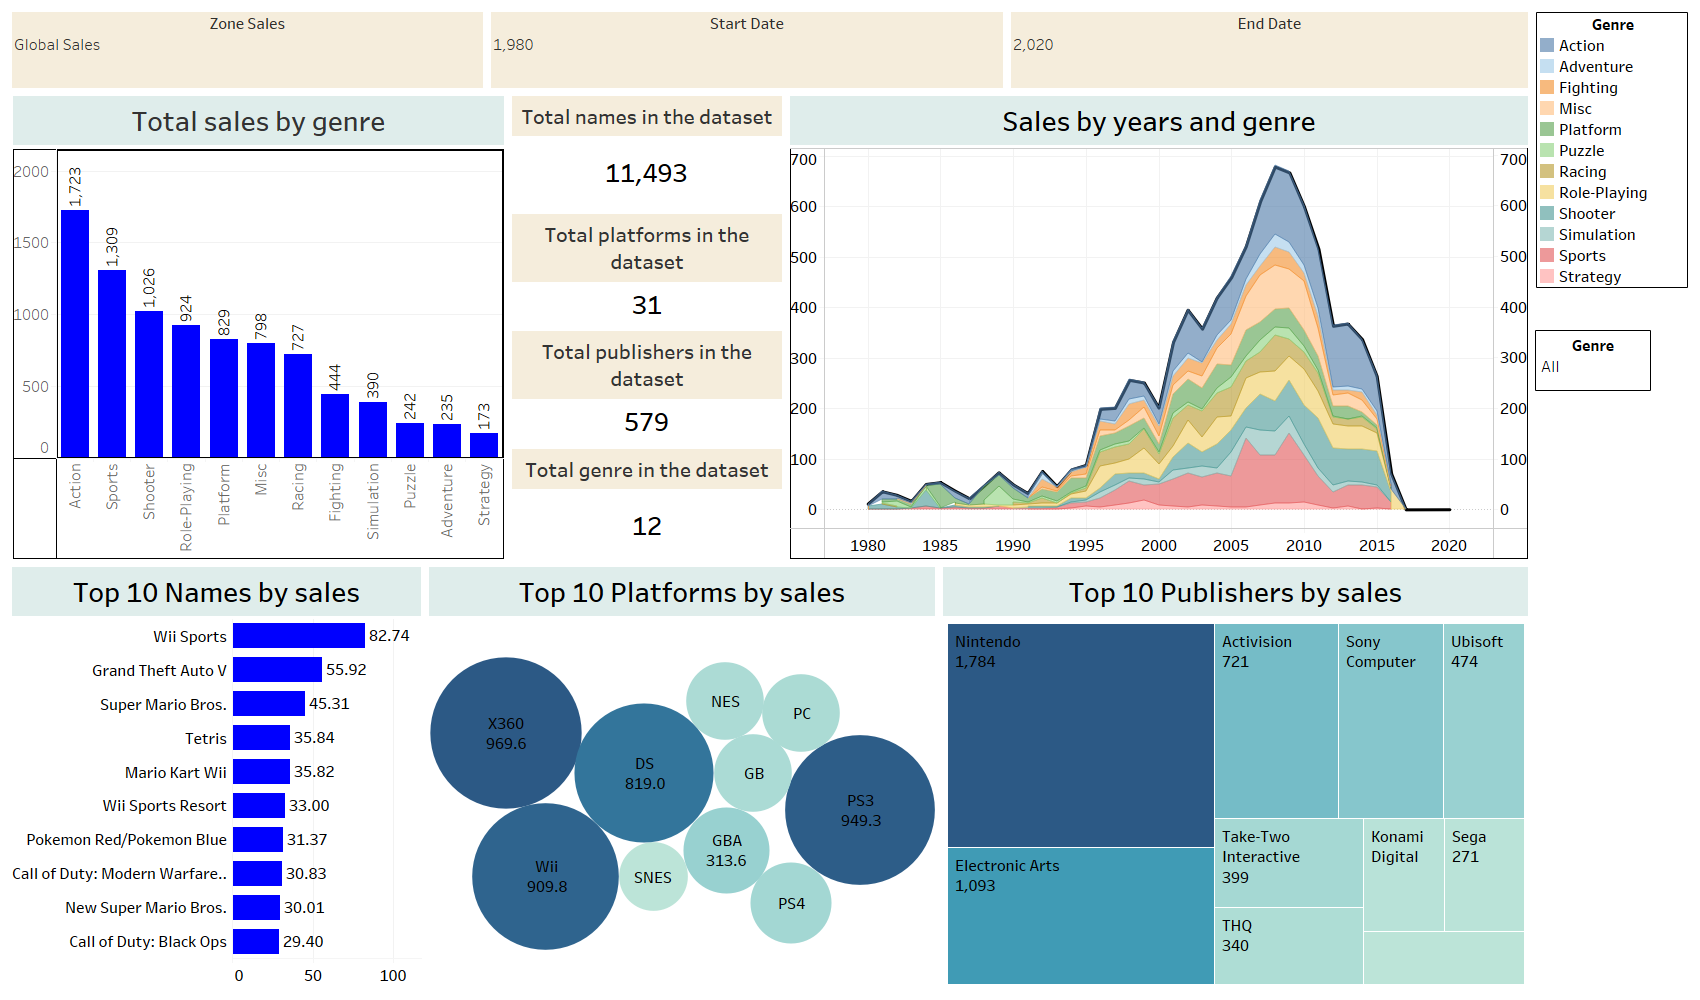

This screenshot's page, from the dashboard's own definition file:
{"tool":"tableau","page":{"name":"Dashboard 1","canvas":[1700,1000],"ordinal":0},"visuals":[{"type":"parameter","param":"[Parameters].[Parameter 1]","box":[8,8,479,84]},{"type":"parameter","param":"[Parameters].[Parameter 2]","box":[487,8,520,84]},{"type":"parameter","param":"[Parameters].[Parameter 3]","box":[1007,8,525,84]},{"type":"legend","title":"Sales by years and genre","param":"[federated.1i4d0sc16iuykv1eu0dy71g19ruy].[none:Genre:nk]","box":[1532,8,160,284]},{"type":"worksheet","title":"Total sales by genre","mark":"Automatic","rows":["Calculation_431782624690286592"],"cols":["Genre"],"box":[8,92,500,470.8]},{"type":"worksheet","title":"Total names in the dataset","mark":"Automatic","box":[508,92,278,117.7]},{"type":"worksheet","title":"Sales by years and genre","mark":"Automatic","rows":["Calculation_431782624690286592","Calculation_431782624690286592"],"cols":["Year"],"box":[786,92,746,470.8]},{"type":"worksheet","title":"Total platforms in the dataset","mark":"Automatic","box":[508,209.7,278,117.7]},{"type":"worksheet","title":"Total publishers in the dataset","mark":"Automatic","box":[508,327.4,278,117.7]},{"type":"filter","title":"Sales by years and genre","param":"[federated.1i4d0sc16iuykv1eu0dy71g19ruy].[none:Genre:nk]","box":[1535,330,116,61]},{"type":"worksheet","title":"Total genre in the dataset","mark":"Automatic","box":[508,445.1,278,117.7]},{"type":"worksheet","title":"Top 10 Names by sales","mark":"Automatic","rows":["Name"],"cols":["Calculation_431782624690286592"],"box":[8,562.8,417,429.2]},{"type":"worksheet","title":"Top 10 Platforms by sales","mark":"Circle","box":[425,562.8,514,429.2]},{"type":"worksheet","title":"Top 10 Publishers by sales","mark":"Automatic","box":[939,562.8,593,429.2]}]}

Visuals, with their boxes in screenshot pixels (x1, y1, x2, y2), scaled from the page's 1700x1000 canvas onto the 1700x1000 screenshot:
parameter: 8/8/487/92
parameter: 487/8/1007/92
parameter: 1007/8/1532/92
"Sales by years and genre" legend: 1532/8/1692/292
"Total sales by genre" worksheet: 8/92/508/563
"Total names in the dataset" worksheet: 508/92/786/210
"Sales by years and genre" worksheet: 786/92/1532/563
"Total platforms in the dataset" worksheet: 508/210/786/327
"Total publishers in the dataset" worksheet: 508/327/786/445
"Sales by years and genre" filter: 1535/330/1651/391
"Total genre in the dataset" worksheet: 508/445/786/563
"Top 10 Names by sales" worksheet: 8/563/425/992
"Top 10 Platforms by sales" worksheet (Circle marks): 425/563/939/992
"Top 10 Publishers by sales" worksheet: 939/563/1532/992
